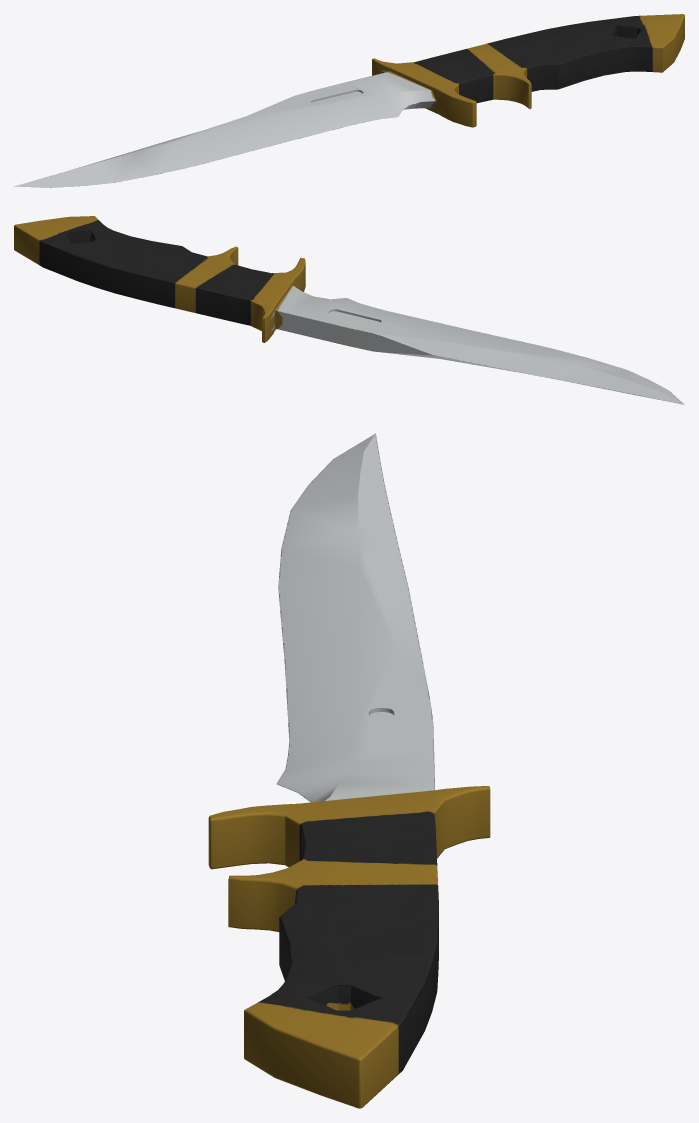
Rendered from PROJETO FACA.fbx.
3 renders of one model, top to bottom at view 1: azimuth 30°, elevation 25°; view 2: azimuth 150°, elevation 25°; view 3: azimuth 270°, elevation 25°, orthographic. The views are drawn at different scales.
Parts seen in each view (by area): view 1: FACA LOWPOLY; view 2: FACA LOWPOLY; view 3: FACA LOWPOLY.
Part boxes in pixels (x1,y1,x2,y2): FACA LOWPOLY: [14, 14, 684, 187]; FACA LOWPOLY: [14, 216, 684, 404]; FACA LOWPOLY: [208, 433, 490, 1108].
Size of the model in its own units: 305 by 11.16 by 55.89.
